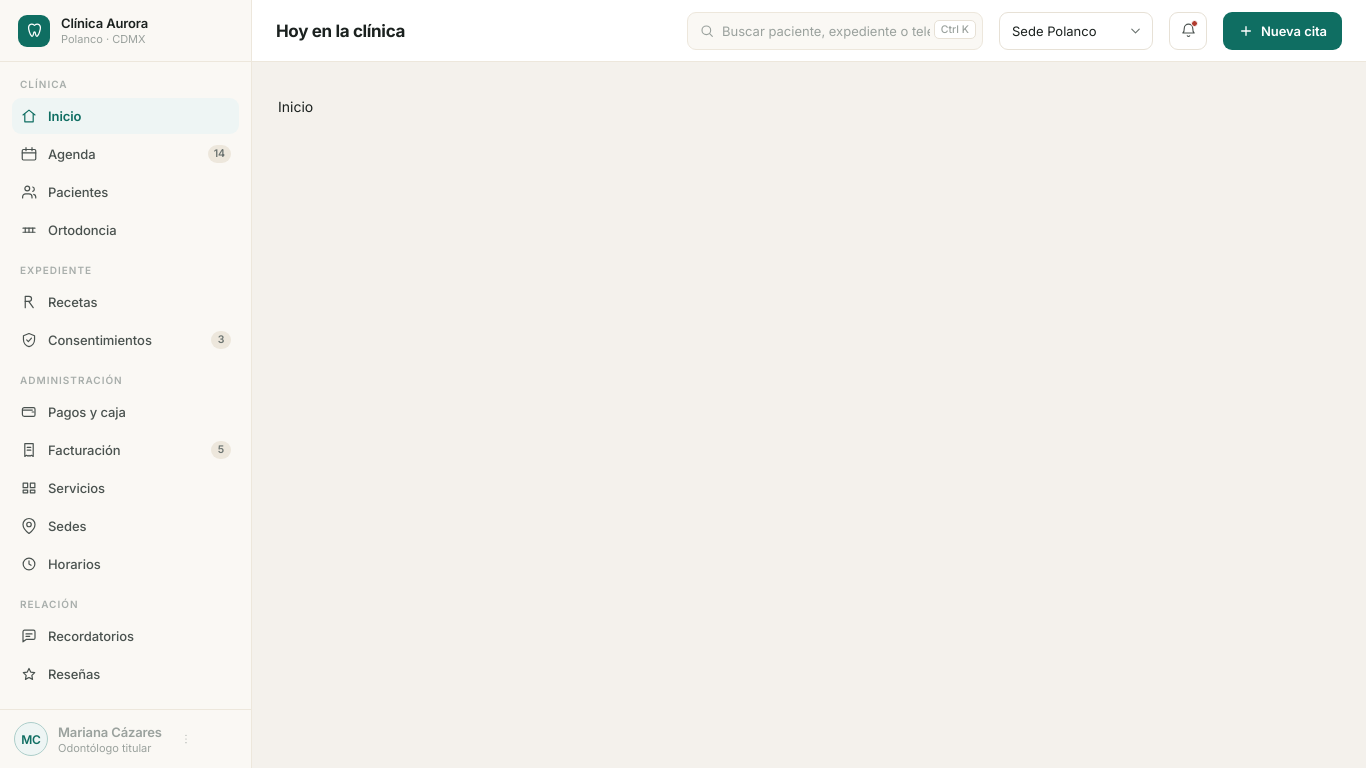
Scenario: <PanelShell /> › does not fake a booking when required backend fields are missing
What coordinates should you click on to do the following:
click the button "Nueva cita"
I would click on:
 (1282, 30)
Its box is x1=1223 y1=12 x2=1342 y2=50.
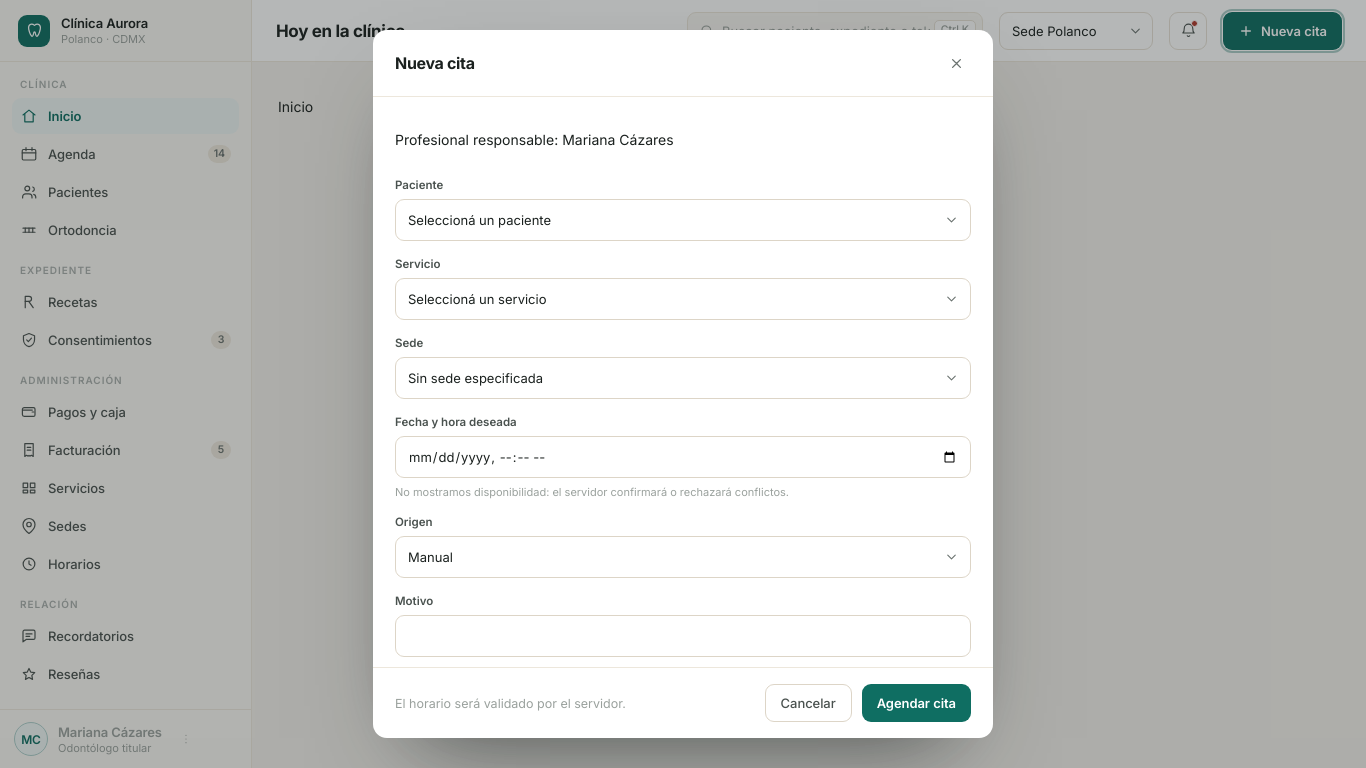
Expected: the button "Agendar cita" is enabled
What coordinates should you click on to do the following:
click the button "Agendar cita"
I would click on:
 (916, 703)
Its box is x1=862 y1=684 x2=971 y2=722.
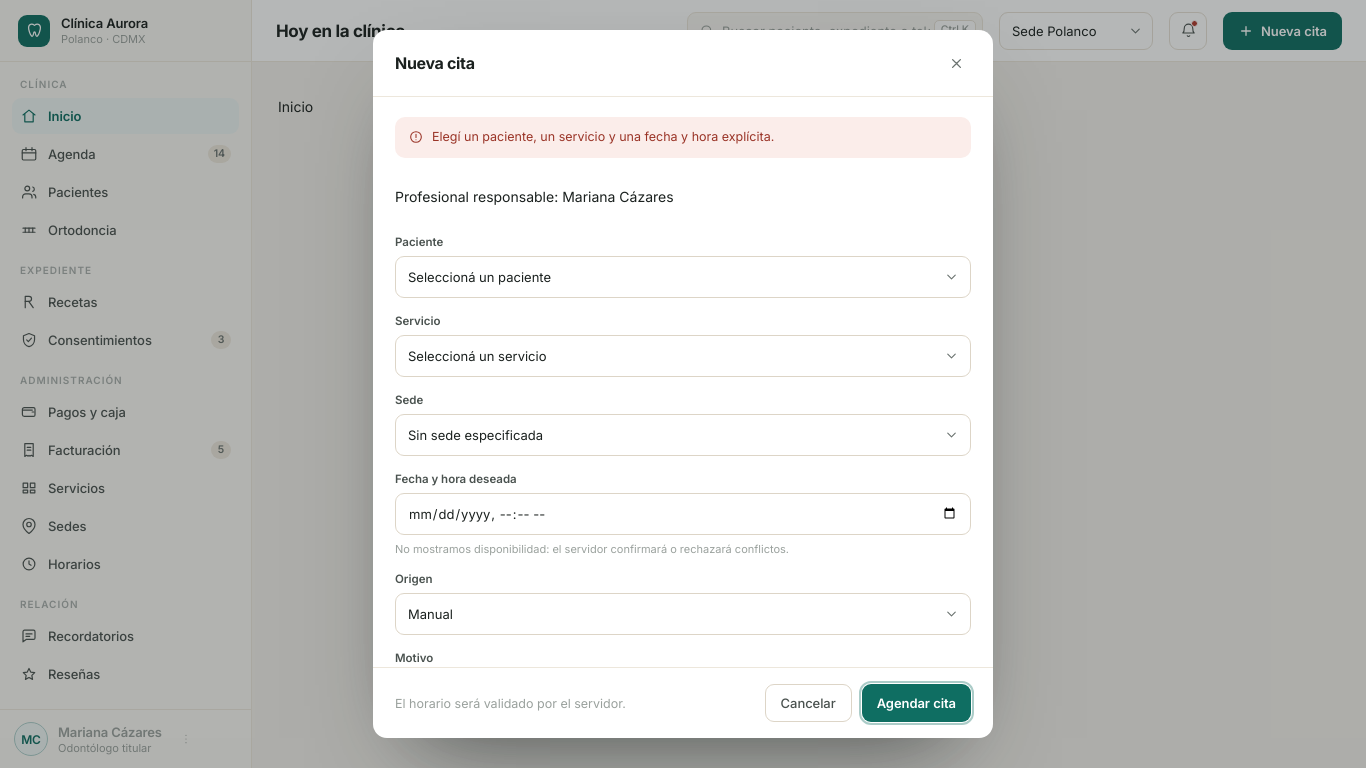
Expected: the text "Elegí un paciente, un servicio y una fecha y hora explícita." is shown, x1=432 y1=128 x2=774 y2=147
